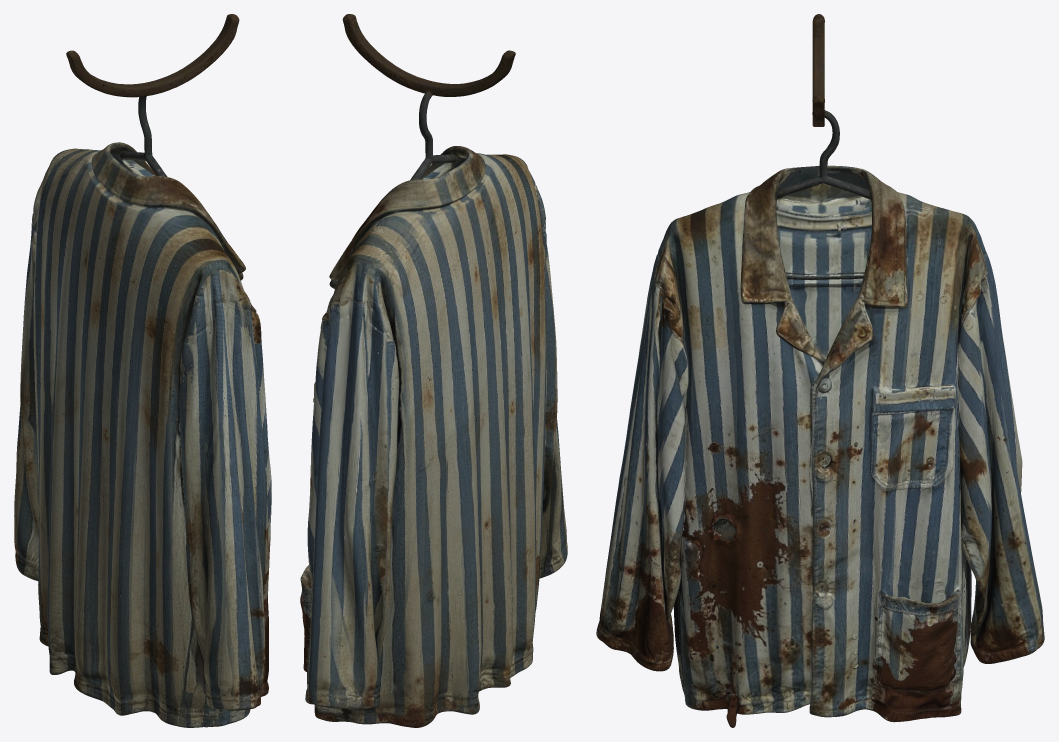
3 renders of one model, left to right at view 1: azimuth 30°, elevation 25°; view 2: azimuth 150°, elevation 25°; view 3: azimuth 270°, elevation 25°, orthographic.
Parts seen in each view (by area): view 1: tripo_node_0c628423-6fbe-4dab-a784-400566b46371; view 2: tripo_node_0c628423-6fbe-4dab-a784-400566b46371; view 3: tripo_node_0c628423-6fbe-4dab-a784-400566b46371.
Part boxes in pixels (box(x1,y1,x2,y2)): tripo_node_0c628423-6fbe-4dab-a784-400566b46371: box(14, 14, 271, 727); tripo_node_0c628423-6fbe-4dab-a784-400566b46371: box(300, 14, 567, 727); tripo_node_0c628423-6fbe-4dab-a784-400566b46371: box(596, 14, 1044, 727).
Size of the model in its own units: 0.2746 by 1 by 0.6326.
1 material, 1 textured.
